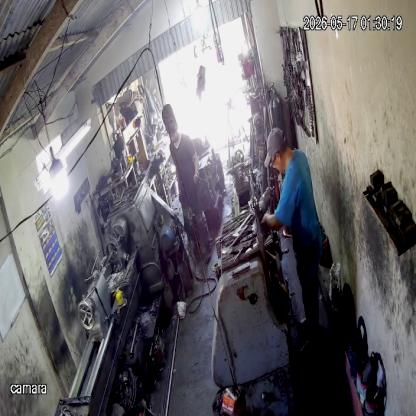lentes: (268, 154, 281, 172)
